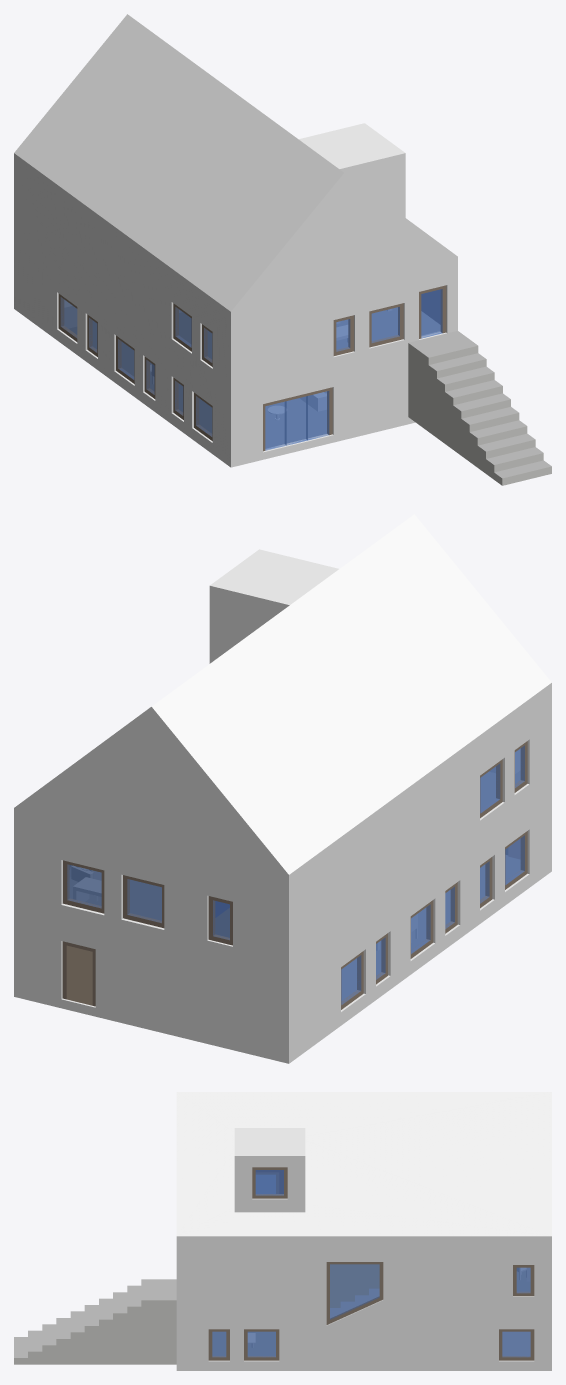
File: nieuw_woning.fbx
3 renders of one model, top to bottom at view 1: azimuth 30°, elevation 25°; view 2: azimuth 150°, elevation 25°; view 3: azimuth 270°, elevation 25°, orthographic. The views are drawn at different scales.
Parts seen in each view (by area): view 1: n_dak_2_1, n_woning_2_1, n_vloer1, n_ondergrond_2_1, n_deur_glas1, n_deur_glas2, n_deur_glas4, n_deur_glas3, n_raam_d7, n_kozijn1_1, n_kozijn_r1_1; view 2: n_dak_2_1, n_woning_2_1, n_ondergrond_2_1, n_vloer1, n_deur1, n_raam_d9, n_raam_d8, n_kozijn_r1_8, n_kozijn_r1_9, n_raam_d4, n_raam_d1, n_raam_d3 (+1 smaller); view 3: n_dak_2_1, n_woning_2_1, n_vloer1, n_ondergrond_2_1, n_raam_trap1, n_wanden1, n_kozijn_3_1, n_raam_d5, n_raam_d6, n_raam_d10, n_kozijn_r1_3, n_kozijn_r1_2 (+7 smaller).
Boxes of the visible parts, x1=… form: n_dak_2_1: x1=14, y1=14, x2=457, y2=311; n_woning_2_1: x1=14, y1=153, x2=457, y2=459; n_vloer1: x1=179, y1=307, x2=551, y2=485; n_ondergrond_2_1: x1=14, y1=301, x2=415, y2=467; n_deur_glas1: x1=306, y1=391, x2=329, y2=440; n_deur_glas2: x1=285, y1=396, x2=307, y2=445; n_deur_glas4: x1=421, y1=289, x2=442, y2=338; n_deur_glas3: x1=265, y1=401, x2=286, y2=450; n_raam_d7: x1=371, y1=307, x2=399, y2=342; n_kozijn1_1: x1=263, y1=387, x2=332, y2=451; n_kozijn_r1_1: x1=369, y1=303, x2=403, y2=347; n_dak_2_1: x1=14, y1=514, x2=551, y2=874; n_woning_2_1: x1=14, y1=683, x2=551, y2=1054; n_ondergrond_2_1: x1=14, y1=855, x2=551, y2=1063; n_vloer1: x1=70, y1=771, x2=520, y2=937; n_deur1: x1=66, y1=945, x2=92, y2=1005; n_raam_d9: x1=127, y1=879, x2=161, y2=922; n_raam_d8: x1=67, y1=864, x2=101, y2=908; n_kozijn_r1_8: x1=63, y1=860, x2=104, y2=913; n_kozijn_r1_9: x1=123, y1=875, x2=164, y2=928; n_raam_d4: x1=480, y1=764, x2=500, y2=813; n_raam_d1: x1=341, y1=955, x2=361, y2=1004; n_raam_d3: x1=505, y1=835, x2=524, y2=884; n_dak_2_1: x1=176, y1=1092, x2=551, y2=1236; n_woning_2_1: x1=176, y1=1170, x2=551, y2=1364; n_vloer1: x1=14, y1=1271, x2=530, y2=1364; n_ondergrond_2_1: x1=176, y1=1332, x2=551, y2=1370; n_raam_trap1: x1=330, y1=1264, x2=379, y2=1319; n_wanden1: x1=330, y1=1264, x2=379, y2=1307; n_kozijn_3_1: x1=326, y1=1262, x2=383, y2=1324; n_raam_d5: x1=247, y1=1331, x2=275, y2=1357; n_raam_d6: x1=502, y1=1331, x2=530, y2=1357; n_raam_d10: x1=255, y1=1170, x2=283, y2=1195; n_kozijn_r1_3: x1=499, y1=1329, x2=534, y2=1360; n_kozijn_r1_2: x1=244, y1=1329, x2=279, y2=1360.
Bounding box in the file's own units: 32 × 36 × 76.
